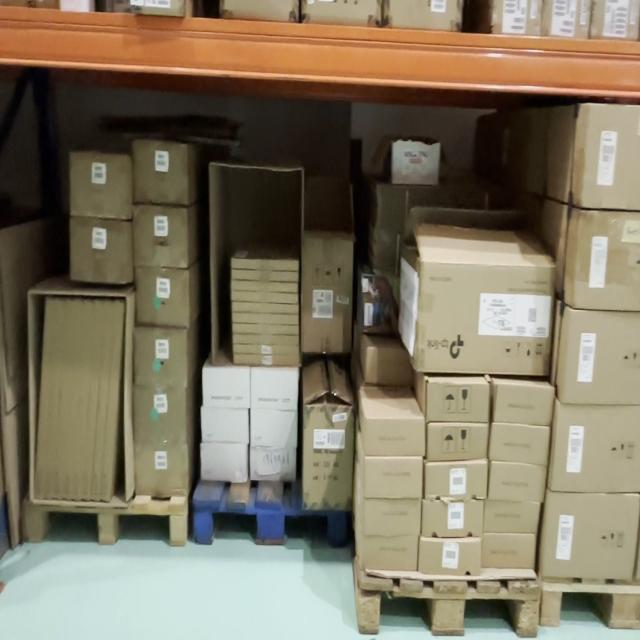box: (422, 262, 548, 374), (542, 492, 640, 580), (551, 407, 640, 492), (563, 310, 640, 405), (574, 211, 640, 312), (582, 102, 640, 211), (304, 236, 352, 350), (34, 298, 58, 501), (83, 301, 107, 500), (305, 406, 351, 508), (101, 302, 124, 503), (91, 302, 114, 500), (76, 301, 98, 500), (70, 302, 92, 501), (65, 300, 87, 498), (45, 300, 66, 500), (52, 301, 73, 500), (59, 300, 78, 499), (71, 154, 131, 215), (134, 142, 186, 201), (72, 224, 131, 276), (137, 268, 188, 326), (136, 330, 186, 385), (136, 210, 187, 263), (135, 389, 186, 441), (136, 443, 187, 495), (488, 463, 546, 504), (428, 383, 489, 421), (427, 426, 489, 462), (423, 502, 484, 537), (426, 462, 486, 497), (492, 424, 547, 462), (365, 459, 421, 496), (364, 499, 421, 534), (498, 385, 550, 422), (420, 542, 480, 574), (366, 422, 424, 454), (363, 536, 416, 571), (483, 501, 541, 532), (252, 370, 296, 410), (482, 536, 536, 568), (251, 411, 297, 446), (203, 370, 249, 405), (202, 447, 247, 482), (394, 143, 437, 179), (367, 348, 408, 382), (203, 412, 248, 442), (251, 448, 294, 479), (232, 258, 298, 268), (234, 356, 299, 366), (233, 346, 299, 353), (231, 283, 297, 289), (233, 274, 298, 280), (233, 316, 298, 322), (233, 294, 297, 300), (233, 326, 297, 332), (233, 305, 298, 310), (234, 338, 298, 343)
